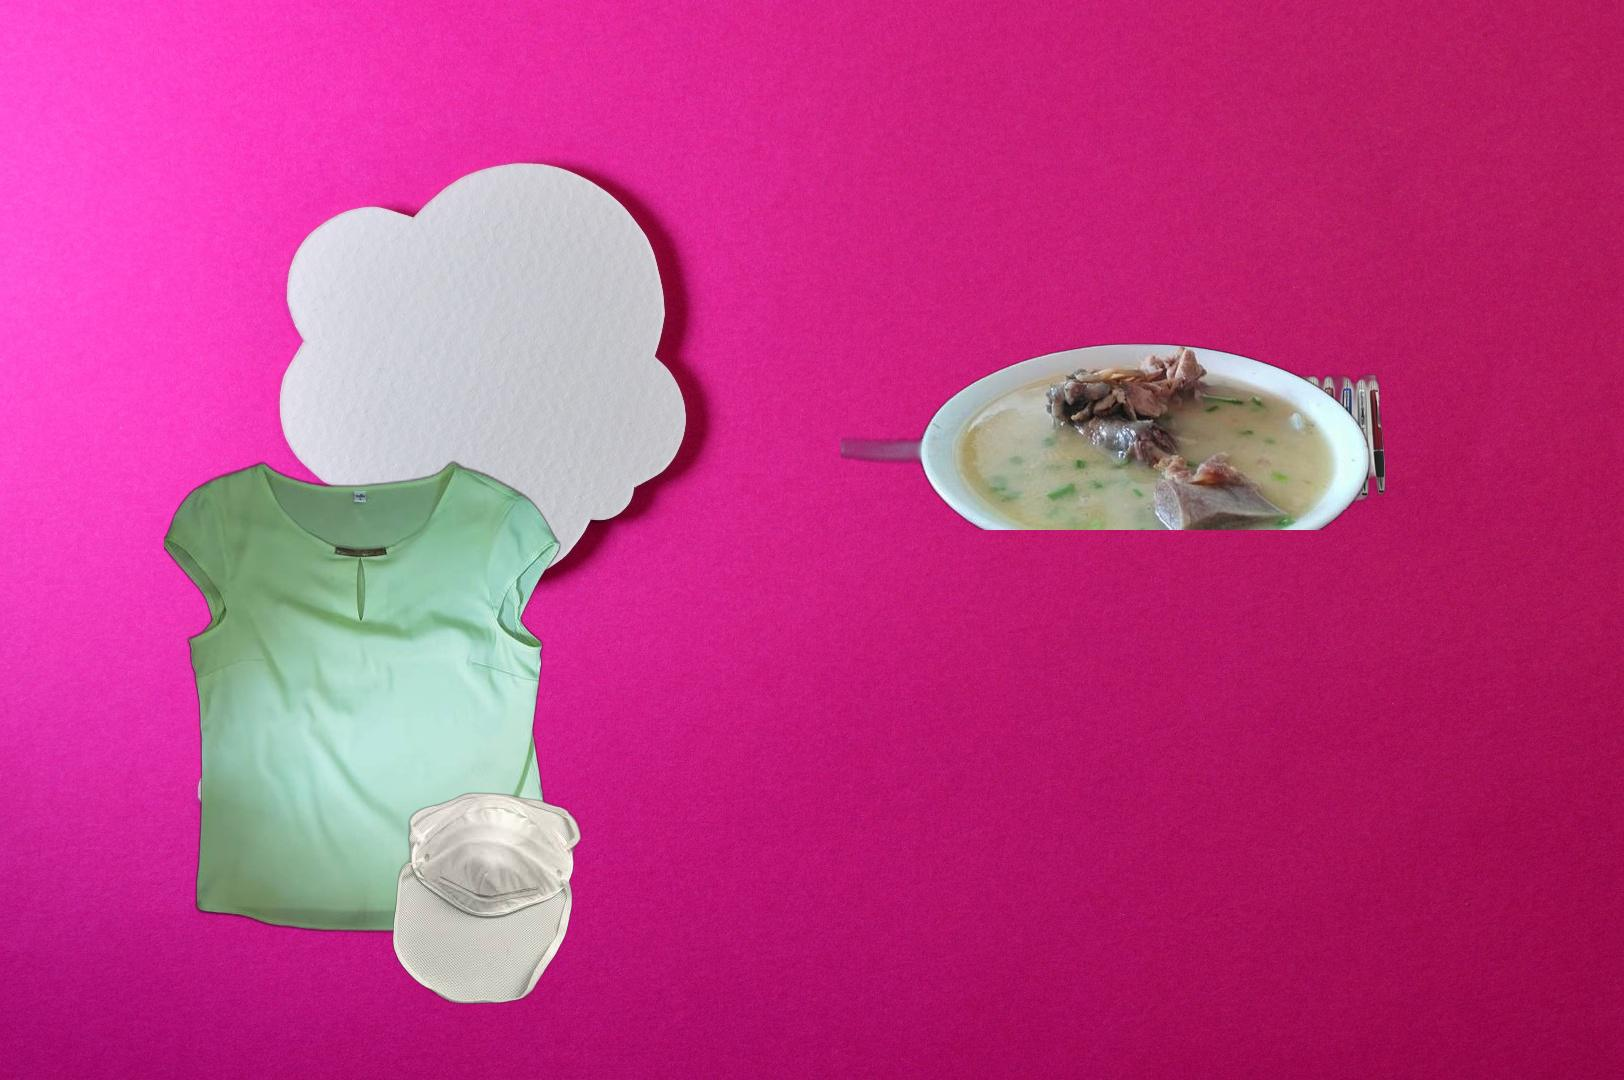biological: (841, 110, 1451, 530)
clothes: (164, 457, 564, 938)
penholder: (1278, 365, 1411, 506)
trash: (390, 790, 584, 1006)
